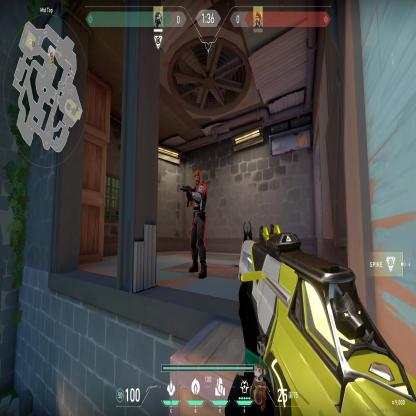enemy: (186, 166, 212, 280)
